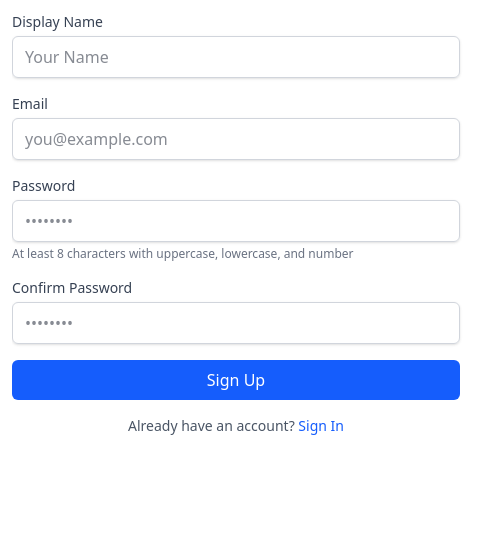
Test: RegisterForm › shows validation error for empty display name
Click the button "Sign Up": (236, 380) [12,360,460,400]
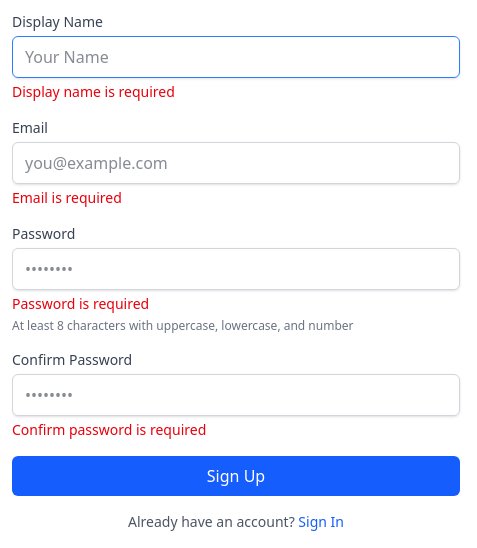
Check: the text "Display name is required" is shown, box [12,82,175,101]
